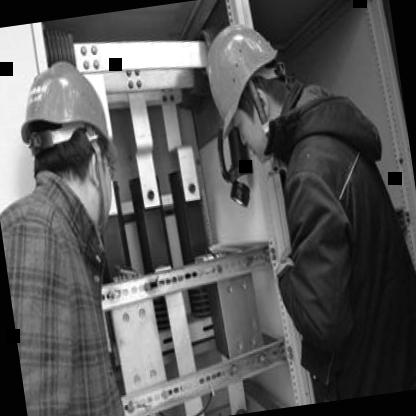helmet: (8, 43, 123, 208), (195, 13, 299, 159)
